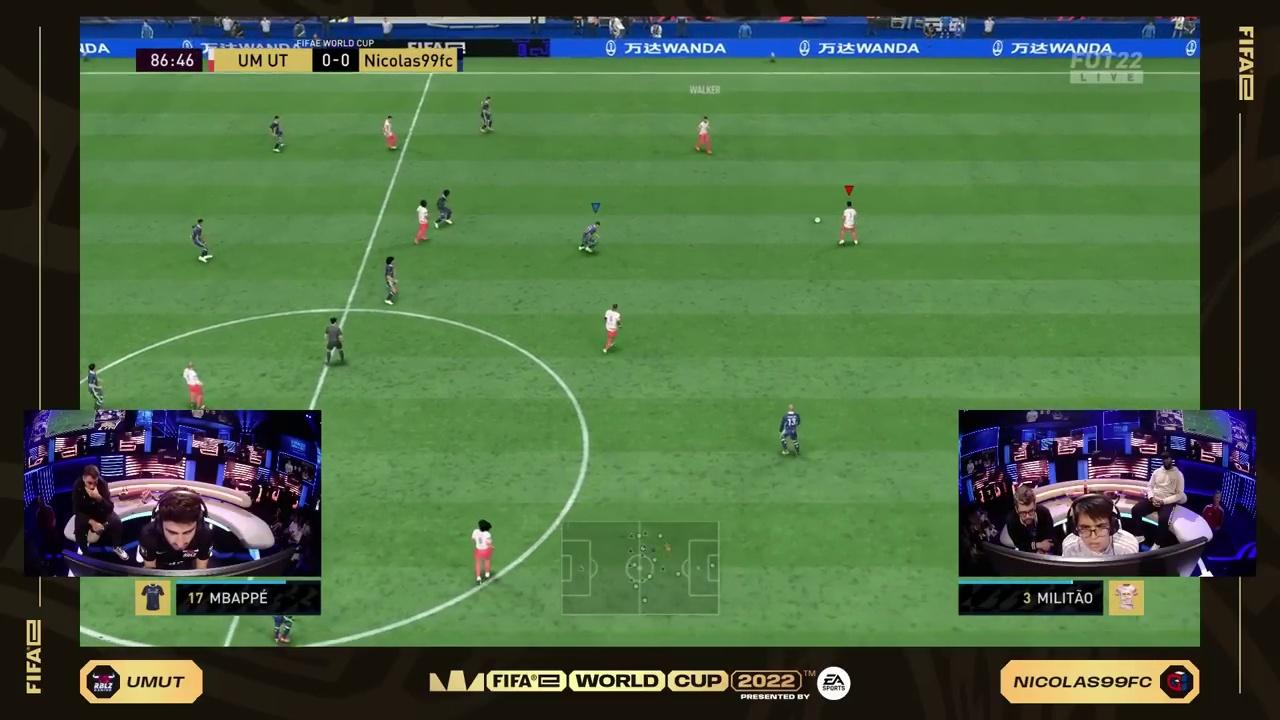scoreboard: (207, 47, 468, 77)
timestamp: (132, 43, 200, 74)
